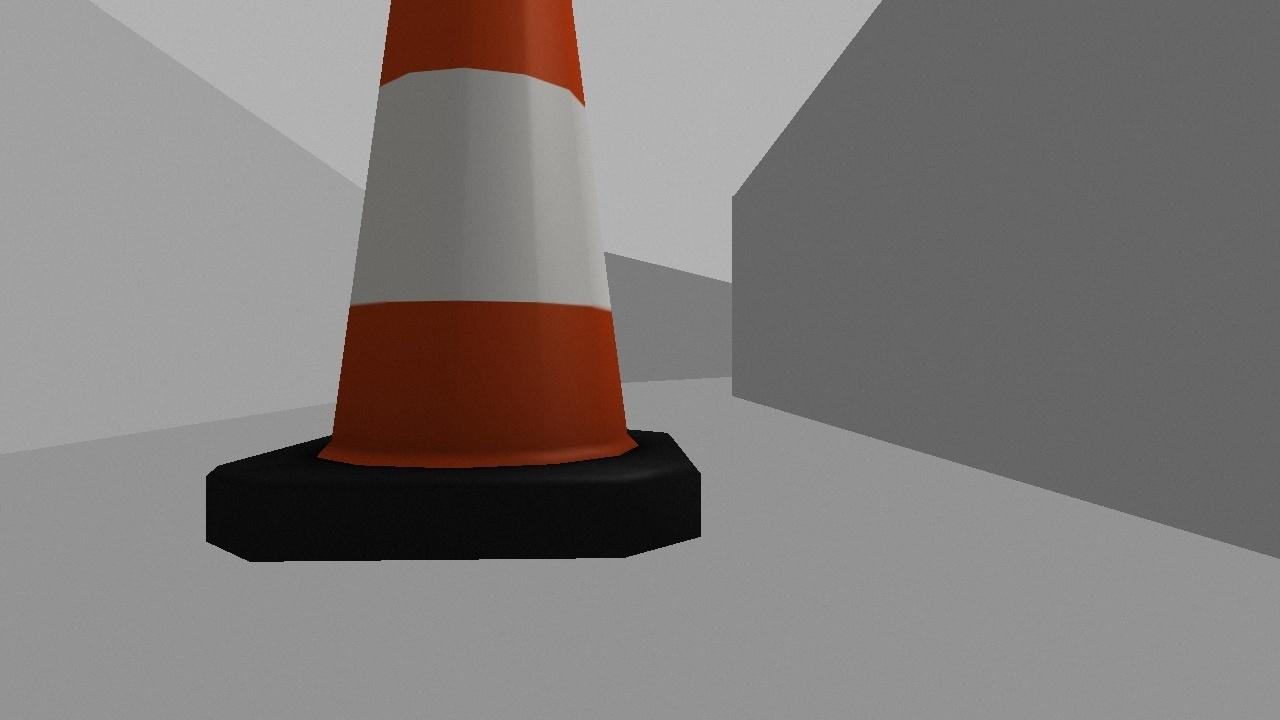cone_barrel: (163, 0, 726, 584)
